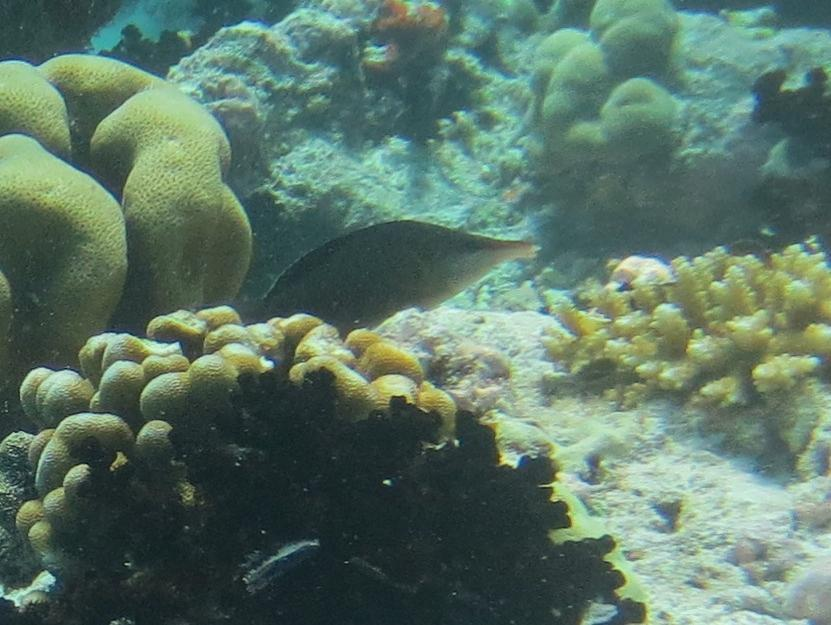Fish: (238, 204, 570, 332)
